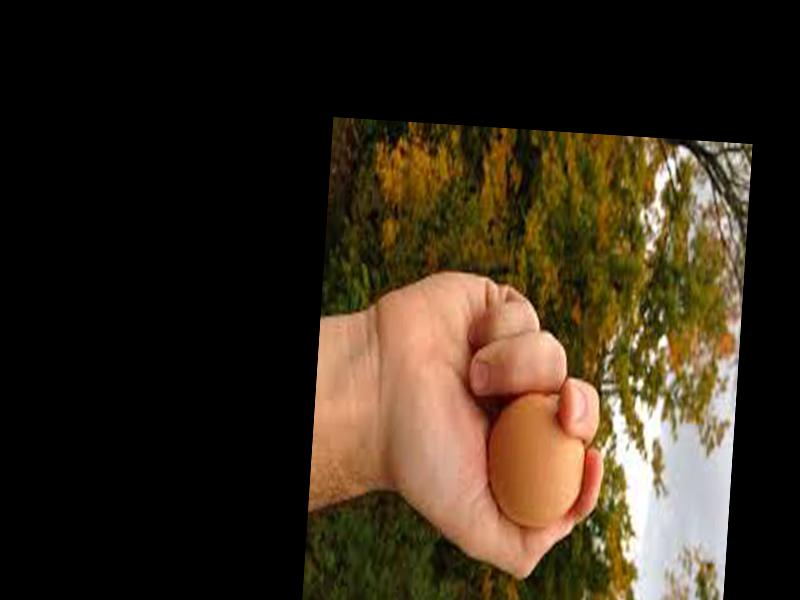Eggs: (484, 384, 588, 528)
